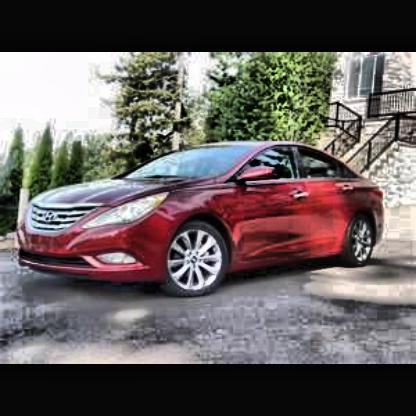Hyundai Sonata Sedan 2012: (19, 139, 383, 301)
